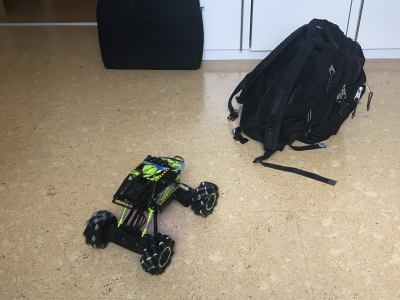remote control car: (82, 151, 221, 276)
